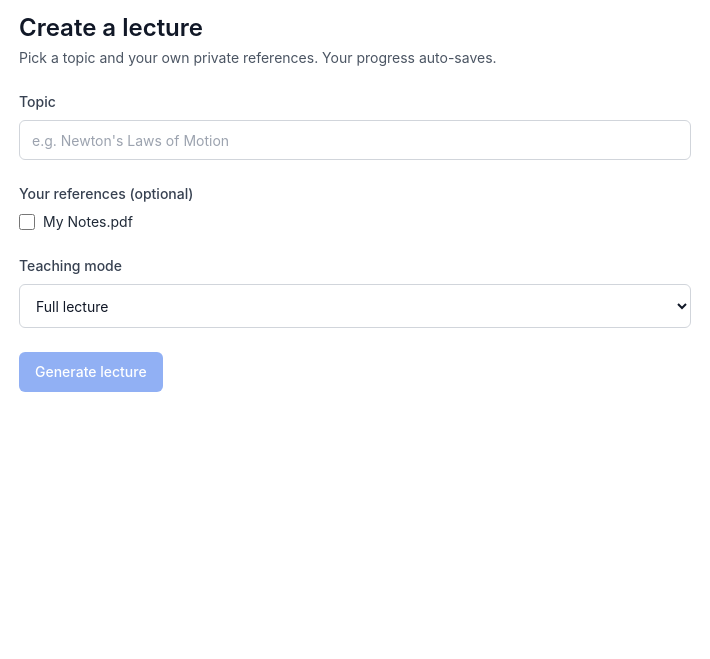
IndependentLectureWizardClient › selects a reference, generates a lecture, and polls through to completion
Type "Newton's Laws" into the field labelled "Topic" at [355, 140], box [19,120,691,160]
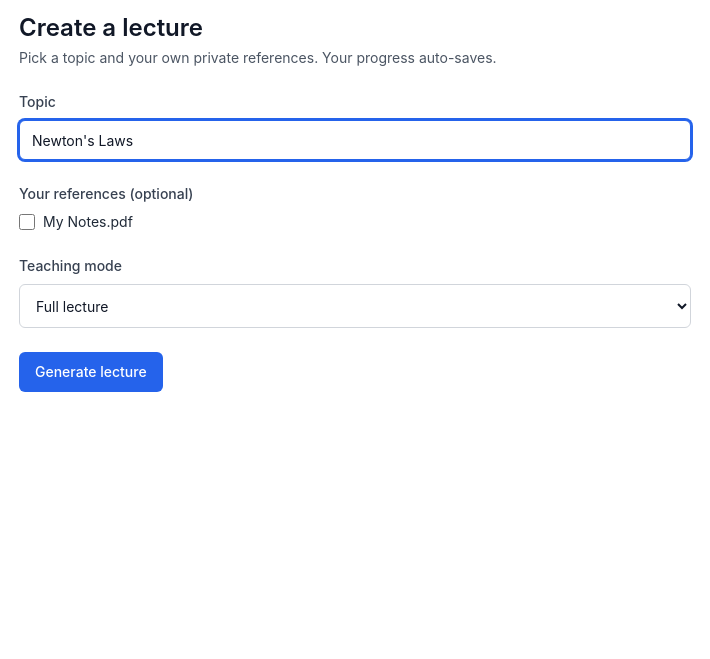
Click the text "My Notes.pdf" at [76, 222], box [19,213,133,230]
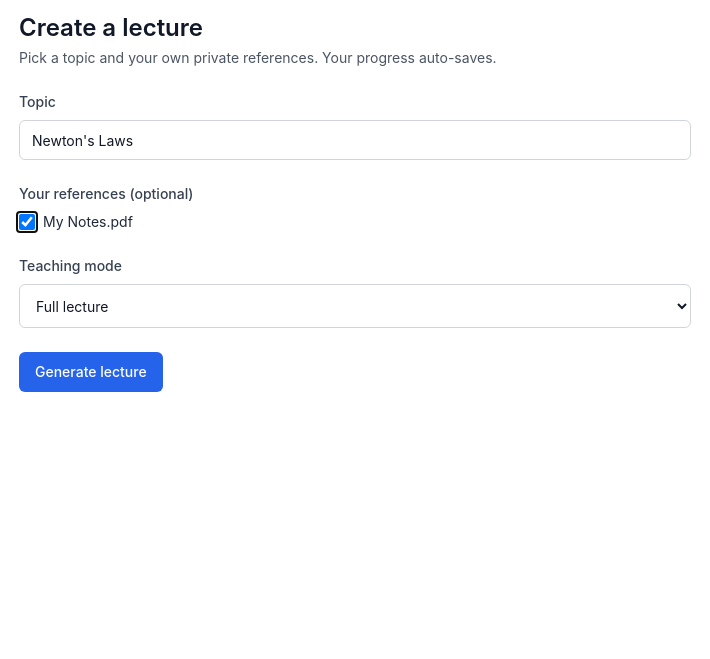
Click the button "Generate lecture" at [91, 372], box [19,352,163,392]
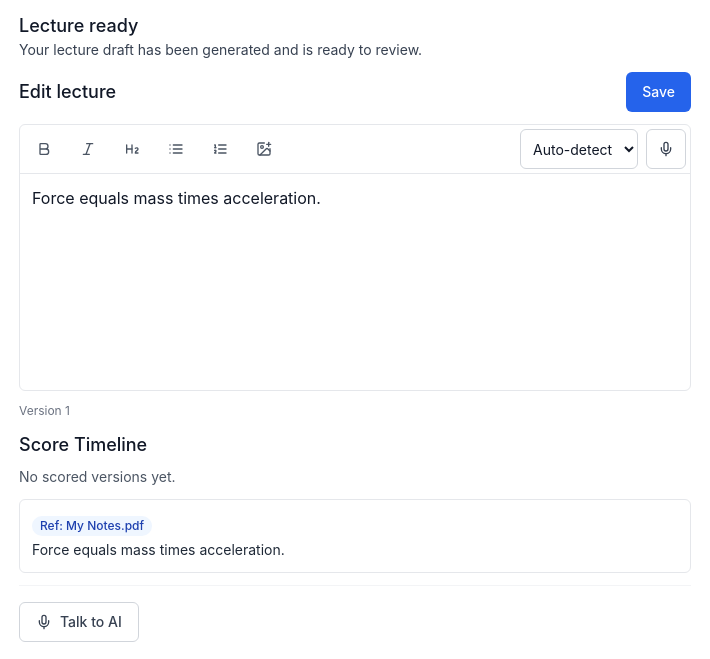
Result: the heading "Lecture ready" is shown at [19,15,138,36]
Result: the text "Ref: My Notes.pdf" is shown at [32,516,152,536]
